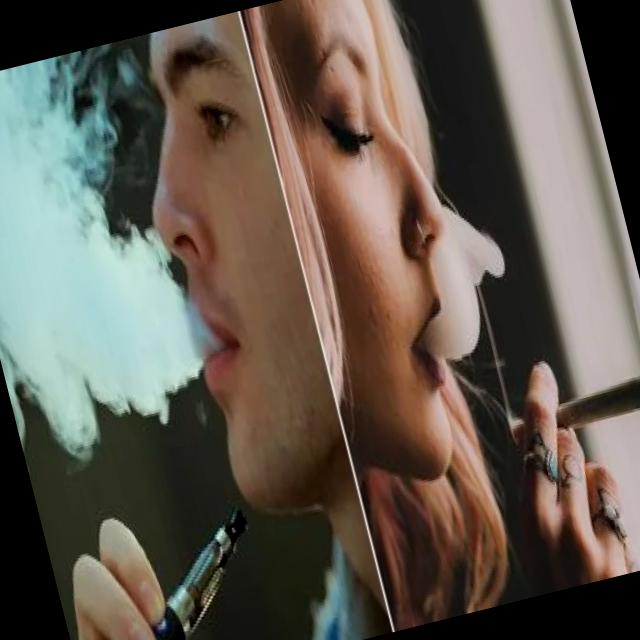smoke: (44, 488, 285, 640), (498, 362, 640, 459)
